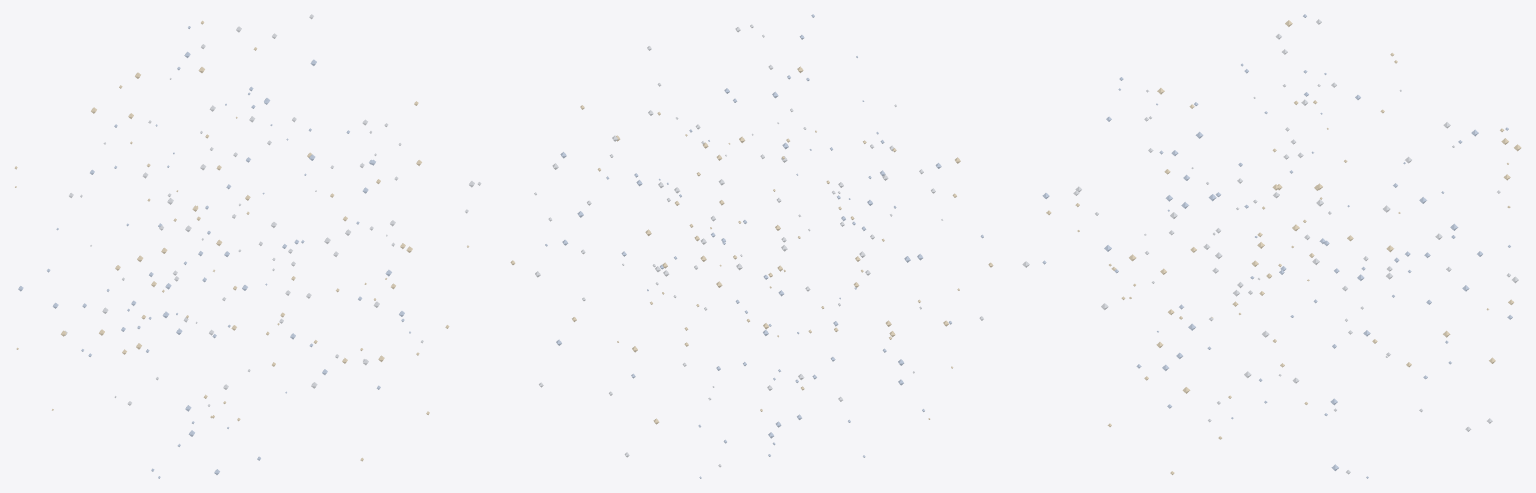
3 renders of one model, left to right at view 1: azimuth 30°, elevation 25°; view 2: azimuth 150°, elevation 25°; view 3: azimuth 270°, elevation 25°, orthographic. The views are drawn at different scales.
Size of the model in its own units: 4.98 by 4.69 by 4.74.
